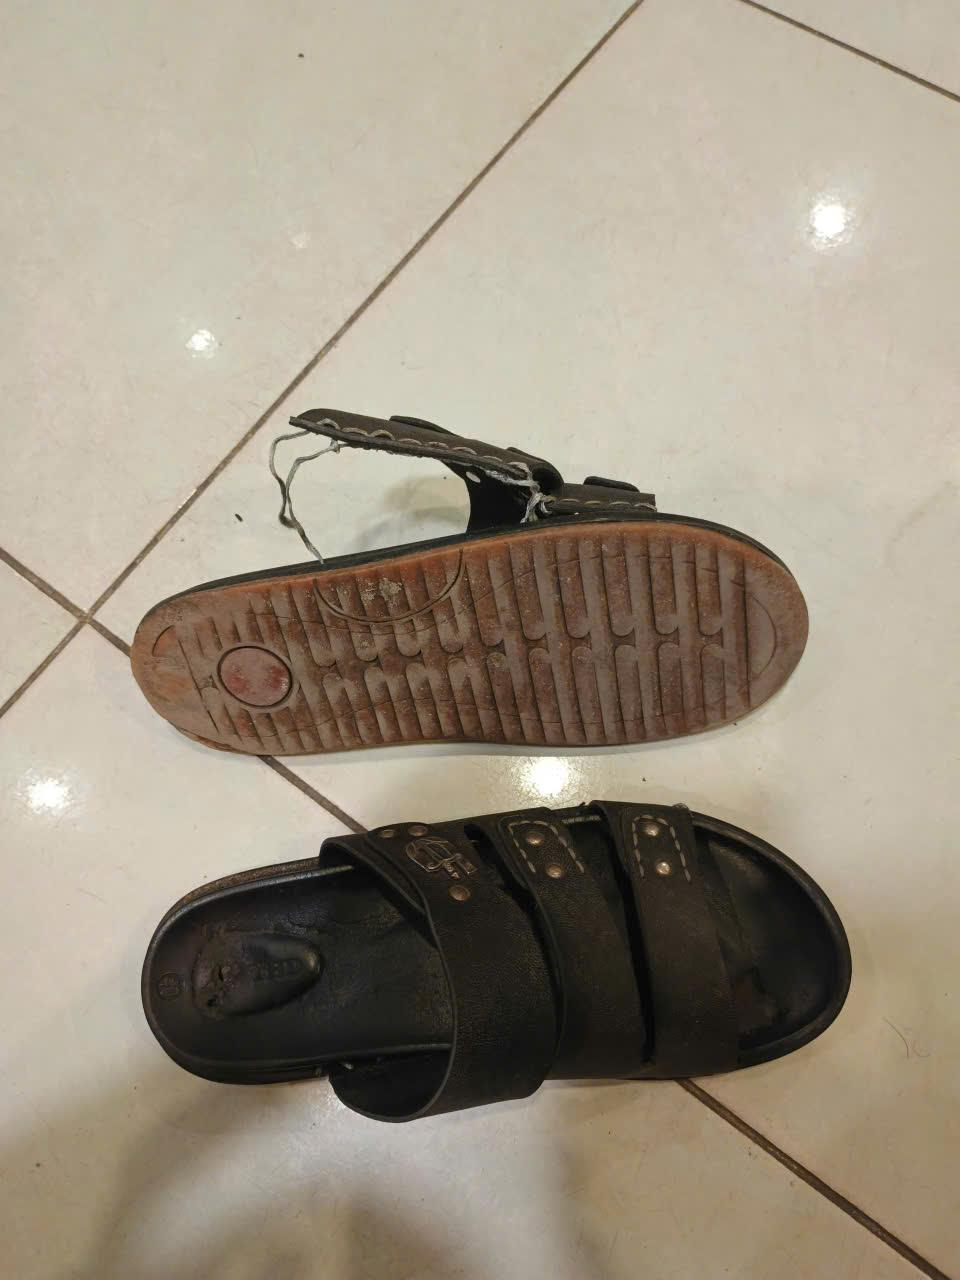Con lai: (130, 403, 810, 757), (140, 800, 856, 1123)
